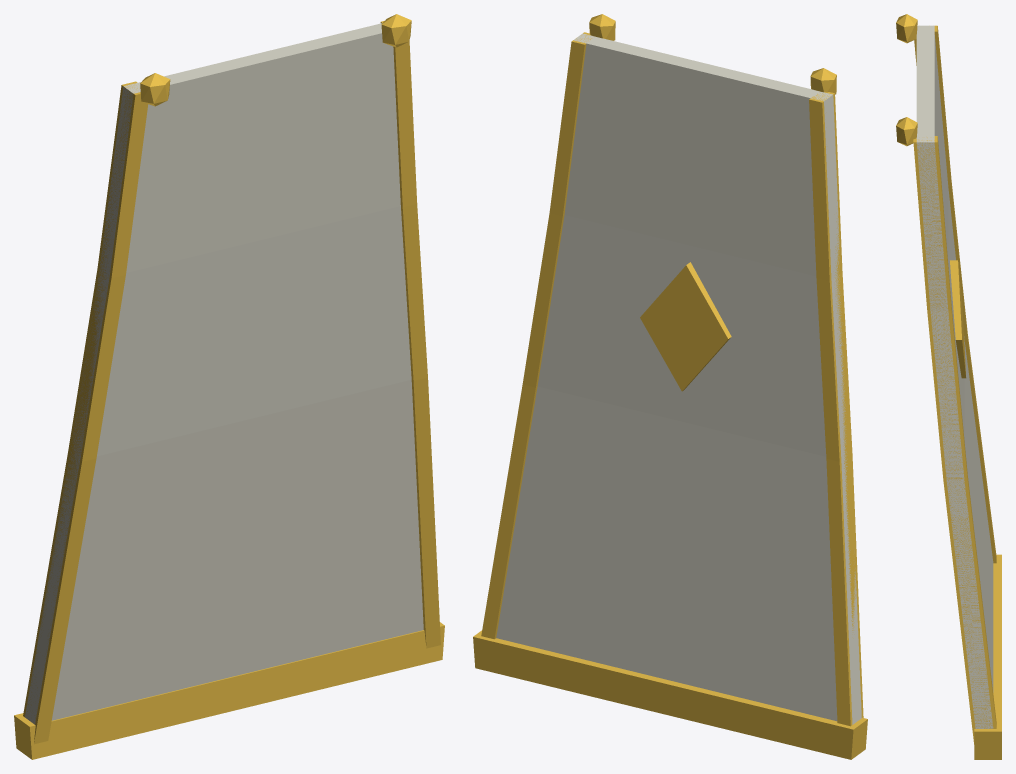
Rendered from gear_cape_prayer.glb.
3 views of the same model, side by side, from view 1: azimuth 30°, elevation 25°; view 2: azimuth 150°, elevation 25°; view 3: azimuth 270°, elevation 25° (orthographic). The views are drawn at different scales.
Visible parts, largest first — view 1: gear_cape_prayer; view 2: gear_cape_prayer; view 3: gear_cape_prayer.
Part boxes in pixels (bbox=[...]): gear_cape_prayer: bbox=[14, 14, 444, 759]; gear_cape_prayer: bbox=[473, 14, 867, 759]; gear_cape_prayer: bbox=[896, 14, 1001, 759].
Size of the model in its own units: 0.516 by 0.825 by 0.1304.
